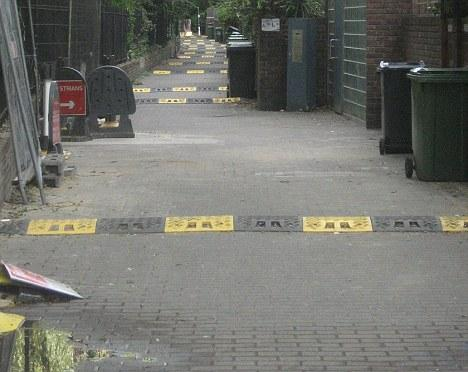Bump: (1, 215, 468, 231)
